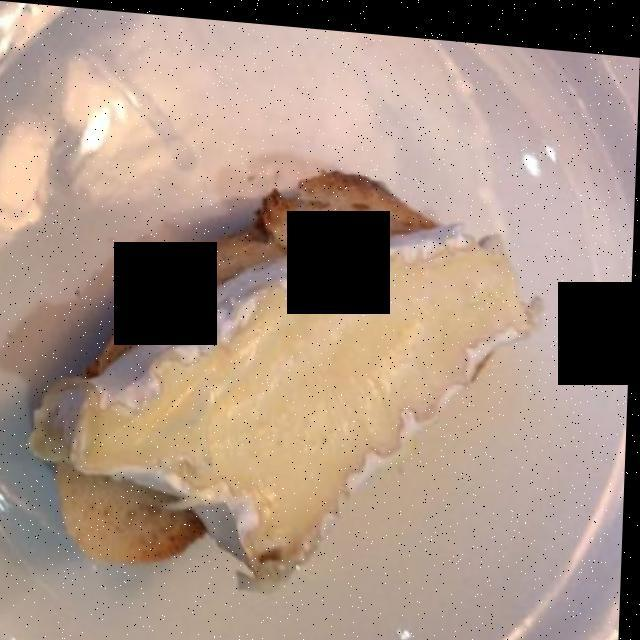bread: (52, 176, 529, 576)
cheese: (44, 204, 572, 598)
